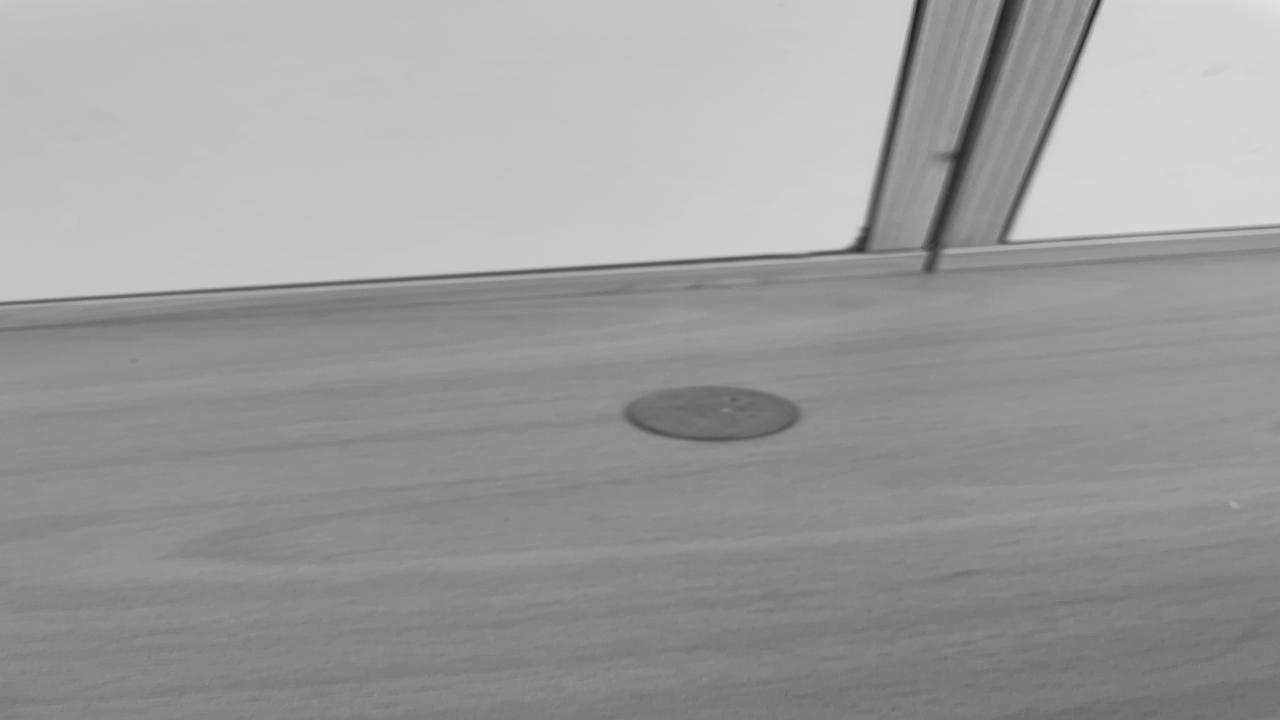coin: (623, 384, 805, 441)
